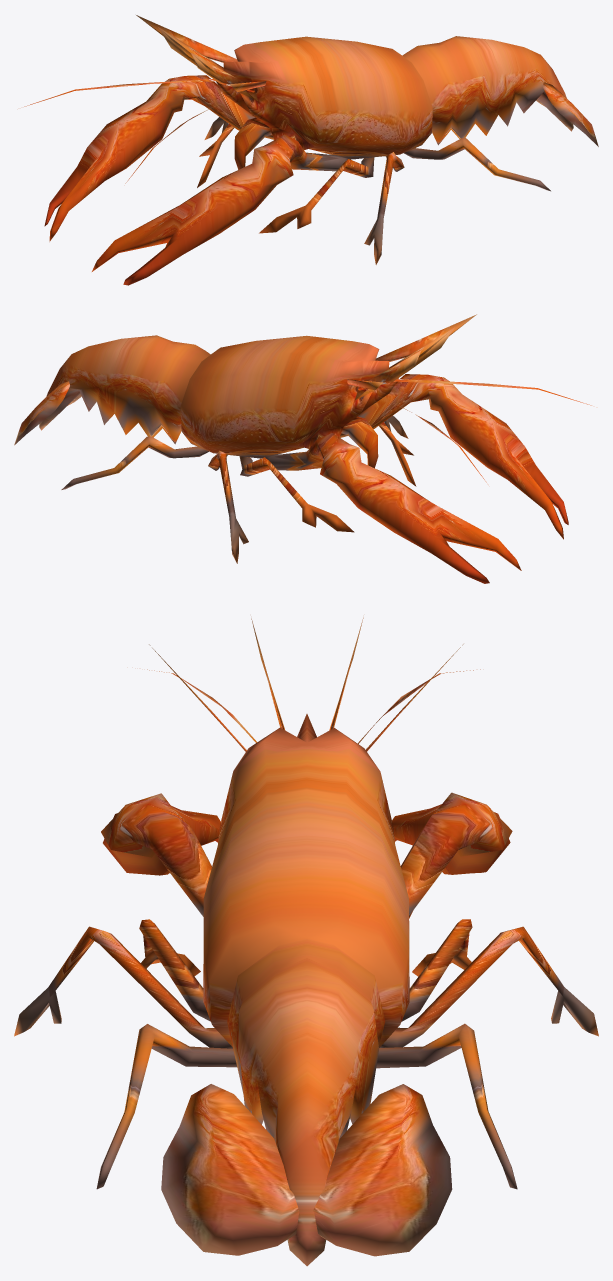
The model's file is meshy_cambarellus_textured_by_projection.glb.
The picture shows the model from 3 angles, top to bottom: view 1: azimuth 30°, elevation 25°; view 2: azimuth 150°, elevation 25°; view 3: azimuth 270°, elevation 25°; orthographic projection. The views are drawn at different scales.
Parts seen in each view (by area): view 1: cambarellus_tex; view 2: cambarellus_tex; view 3: cambarellus_tex.
Boxes of the visible parts, x1,y1,x2,y2 form: cambarellus_tex: (24, 15, 598, 285); cambarellus_tex: (14, 314, 591, 583); cambarellus_tex: (14, 617, 598, 1266).
Bounding box in the file's own units: 1 × 0.3689 × 0.5893.
Materials: 1 (1 with a texture image).
